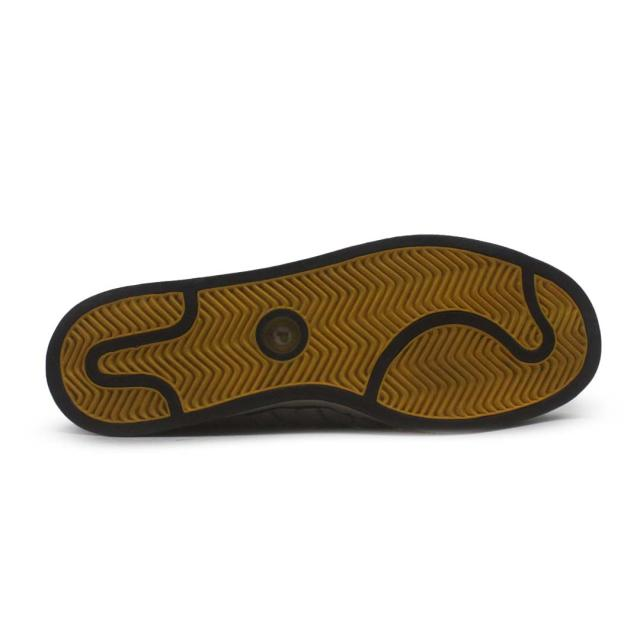outersole: (42, 234, 604, 440)
